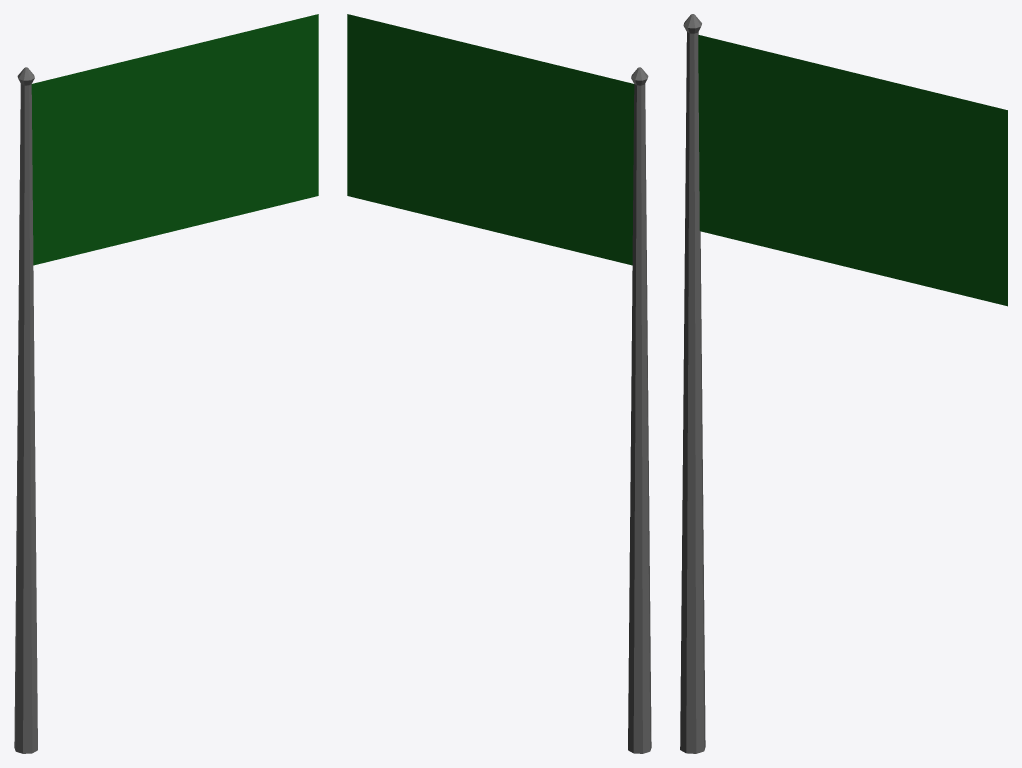
The model's file is BandeiraVerde.fbx.
3 views of the same model, side by side, from view 1: azimuth 30°, elevation 25°; view 2: azimuth 150°, elevation 25°; view 3: azimuth 330°, elevation 25° (orthographic). The views are drawn at different scales.
Visible parts, largest first — view 1: Bandiera, mastro; view 2: Bandiera, mastro; view 3: Bandiera, mastro.
Part boxes in pixels (<box>): Bandiera: <box>31,14,318,265</box>; mastro: <box>14,67,37,753</box>; Bandiera: <box>347,14,634,265</box>; mastro: <box>628,67,651,753</box>; Bandiera: <box>698,35,1007,306</box>; mastro: <box>680,14,705,753</box>.
Bounding box in the file's own units: 93.08 × 200 × 6.5.
